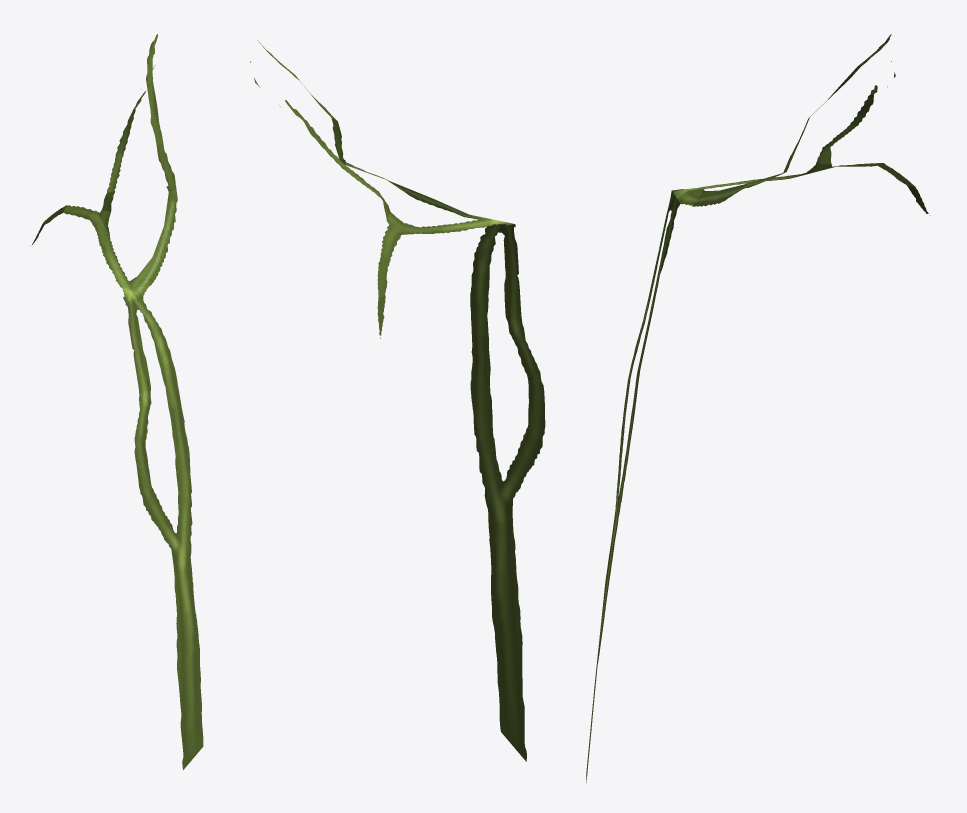
The model's file is teng_02.FBX.
The picture shows the model from 3 angles, left to right: view 1: azimuth 30°, elevation 25°; view 2: azimuth 150°, elevation 25°; view 3: azimuth 270°, elevation 25°; orthographic projection. The views are drawn at different scales.
Visible parts, largest first — view 1: teng_02; view 2: teng_02; view 3: teng_02.
Part boxes in pixels (bbox=[...]): teng_02: bbox=[30, 34, 203, 769]; teng_02: bbox=[250, 40, 545, 761]; teng_02: bbox=[586, 34, 930, 782].
Bounding box in the file's own units: 134 × 632 × 243.
